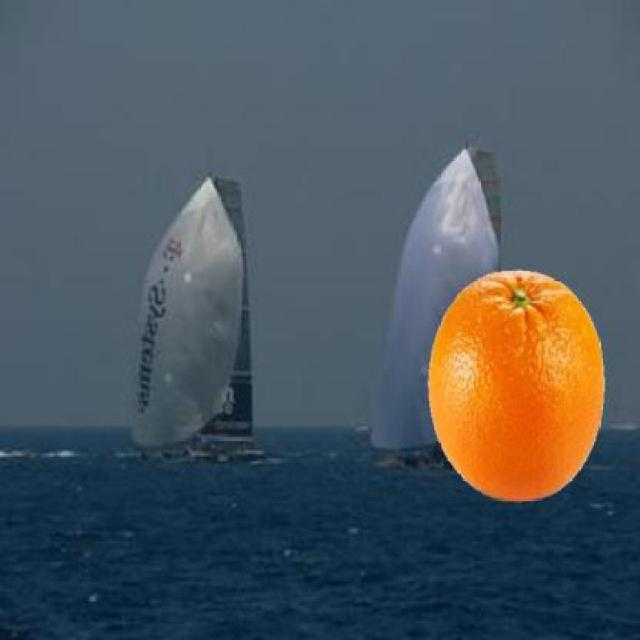Orange: (425, 266, 606, 503)
